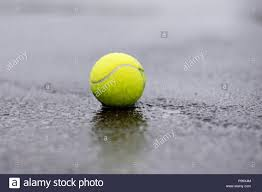tennis_ball: (89, 51, 146, 110)
